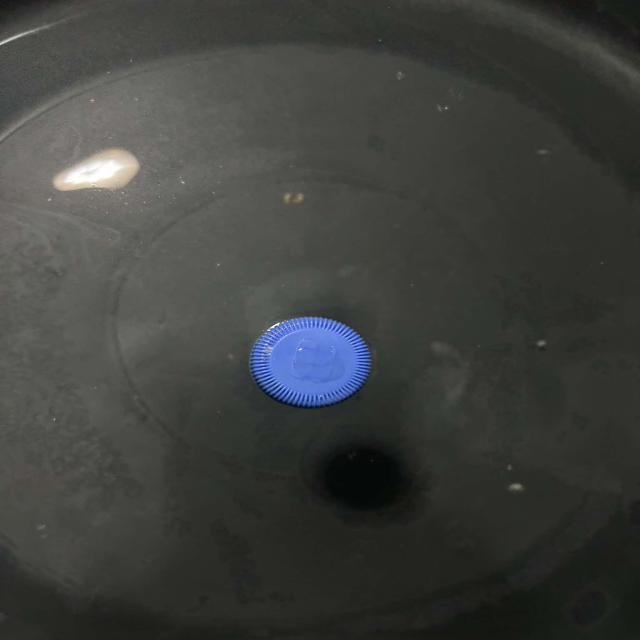Bottle Lid: (225, 289, 402, 433)
